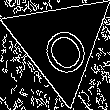O_NW: (29, 9, 91, 76)
